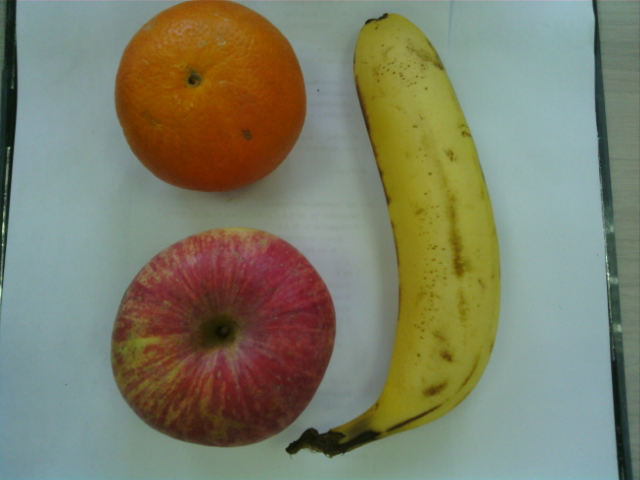normal_apple: (112, 223, 338, 450)
normal_banana: (344, 11, 503, 463)
normal_orange: (113, 2, 307, 195)
